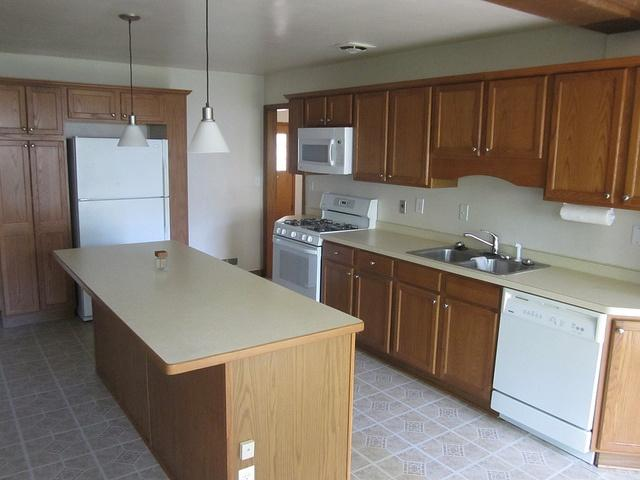Lemari: (351, 53, 639, 212), (0, 80, 75, 318)
Meja: (50, 238, 364, 376)
